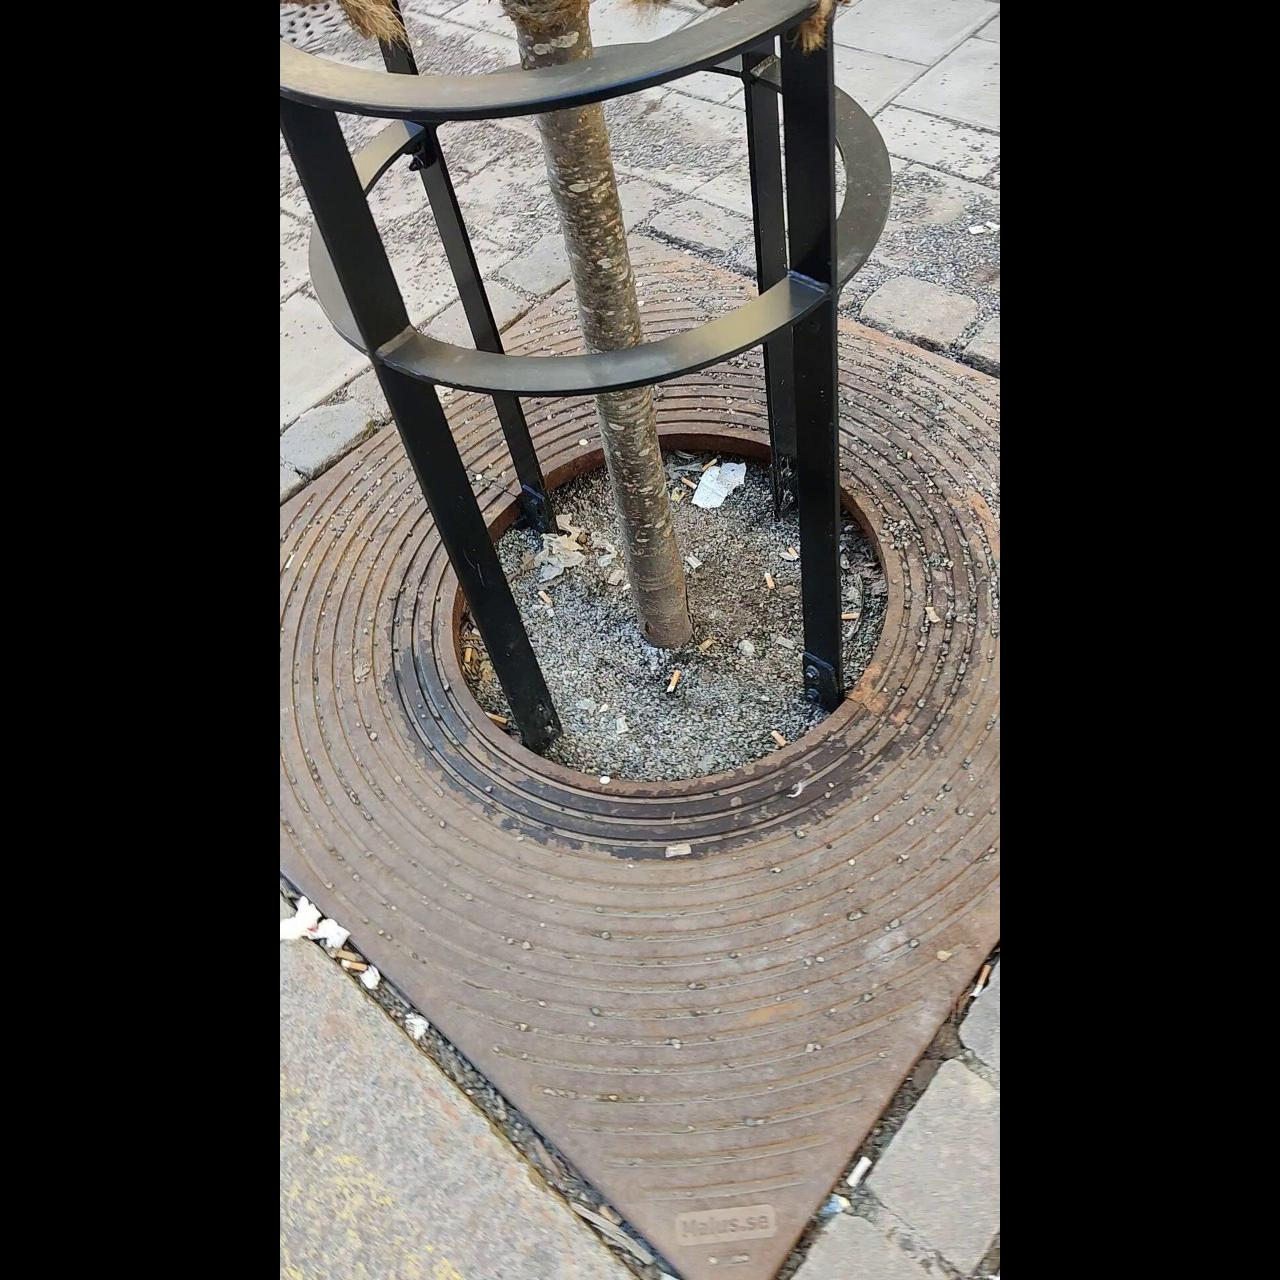cigarettes_butts: (973, 962, 989, 1000), (331, 946, 361, 958), (921, 606, 942, 622), (341, 960, 368, 972), (697, 456, 717, 470), (488, 713, 509, 726), (772, 729, 788, 747), (697, 640, 714, 655), (680, 475, 697, 489), (762, 571, 776, 588), (668, 668, 678, 694), (539, 587, 551, 605), (787, 547, 798, 561), (839, 610, 862, 617), (467, 646, 472, 662)
others: (849, 1157, 871, 1191), (685, 551, 706, 572), (666, 842, 693, 858), (615, 719, 625, 737)
